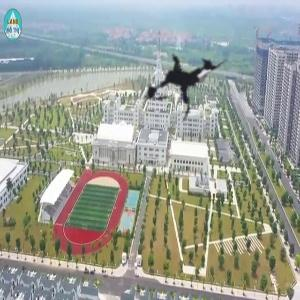drone: (114, 9, 263, 158)
